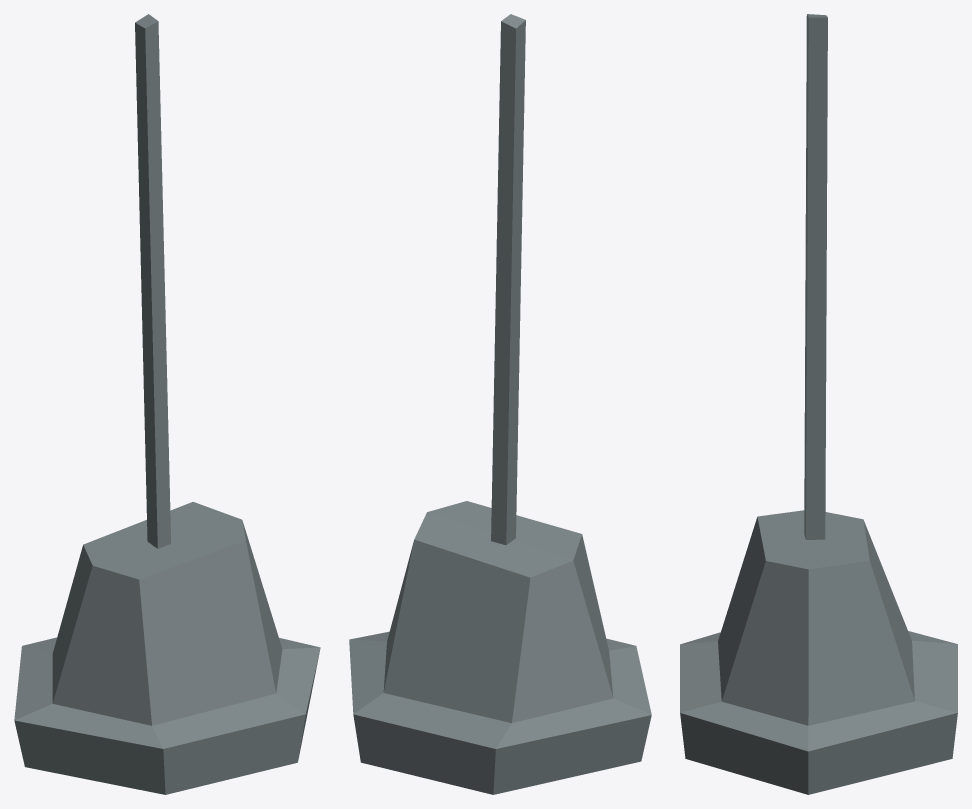
Rendered from Jail_Lamp_Type_1.fbx.
The picture shows the model from 3 angles, left to right: view 1: azimuth 30°, elevation 25°; view 2: azimuth 150°, elevation 25°; view 3: azimuth 270°, elevation 25°; orthographic projection.
Parts seen in each view (by area): view 1: Jail_Lamp_Type_1, Jail_Lamp_Type_cable_1; view 2: Jail_Lamp_Type_1, Jail_Lamp_Type_cable_1; view 3: Jail_Lamp_Type_1, Jail_Lamp_Type_cable_1.
Boxes of the visible parts, <box> form: Jail_Lamp_Type_1: <box>14,502,320,794</box>; Jail_Lamp_Type_cable_1: <box>135,14,170,548</box>; Jail_Lamp_Type_1: <box>349,501,651,794</box>; Jail_Lamp_Type_cable_1: <box>491,14,525,544</box>; Jail_Lamp_Type_1: <box>680,510,957,794</box>; Jail_Lamp_Type_cable_1: <box>804,14,827,539</box>.
Bounding box in the file's own units: 1.35 × 3.03 × 1.08.
